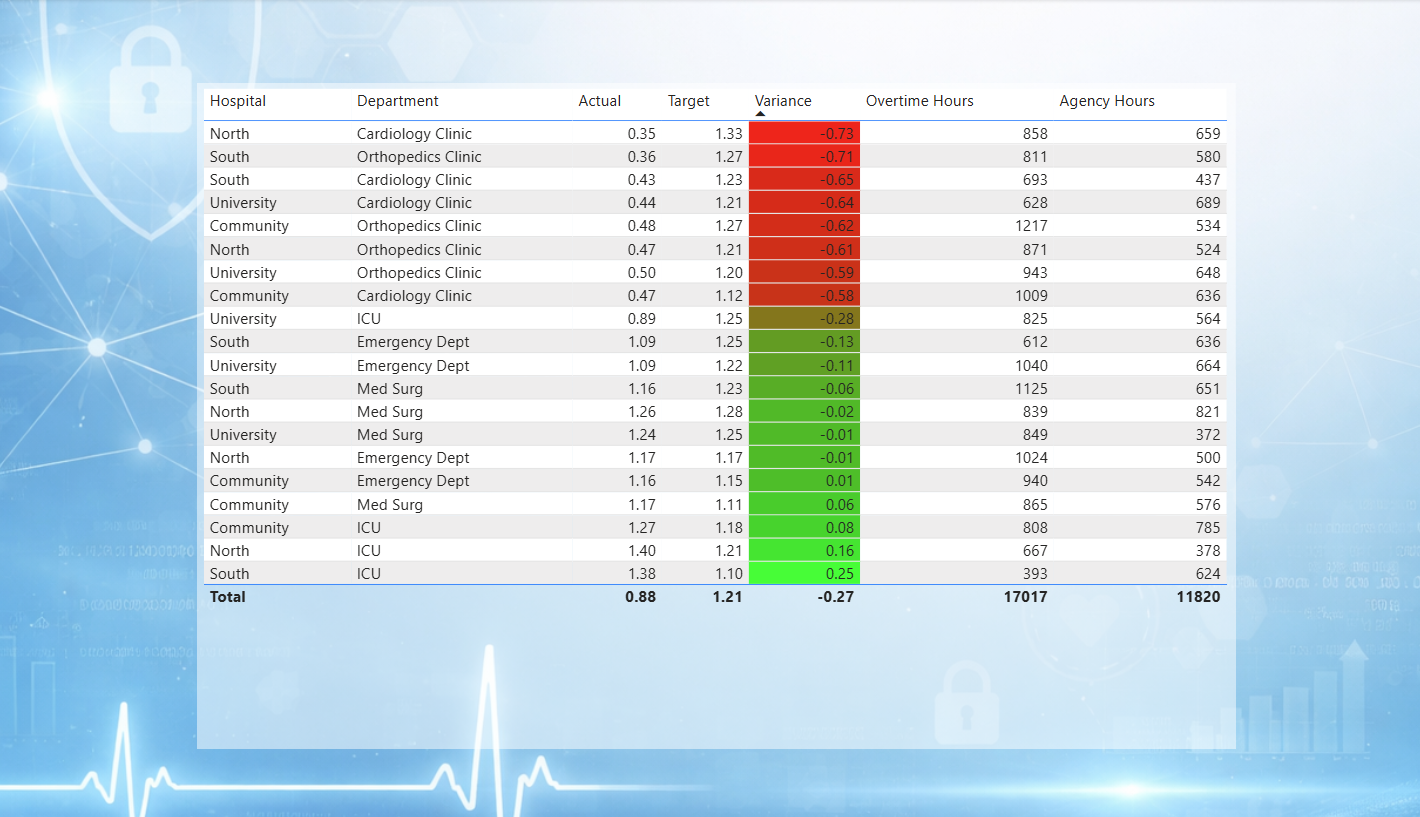

The page's visual inventory and layout, read from the dashboard file:
{"tool":"powerbi","page":{"name":"Page 1","canvas":[1280,720],"ordinal":0},"visuals":[{"type":"tableEx","fields":{"Values":["raw_department_productivity.hospital","raw_department_productivity.department","raw_department_productivity.Actual Productivity","raw_department_productivity.Productivity Target","raw_department_productivity.Variance %","Sum(raw_department_productivity.overtime_hours)","Sum(raw_department_productivity.agency_hours)"]},"box":[191.5,72.5,896.2,574.4],"z":0}]}

Visuals, with their boxes in screenshot pixels (x1, y1, x2, y2), scaled from the page's 1280x720 canvas onto the 1420x817 screenshot:
tableEx - raw_department_productivity.hospital x raw_department_productivity.department: <box>212,82,1207,734</box>
